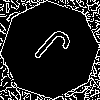J: (25, 25, 74, 77)
